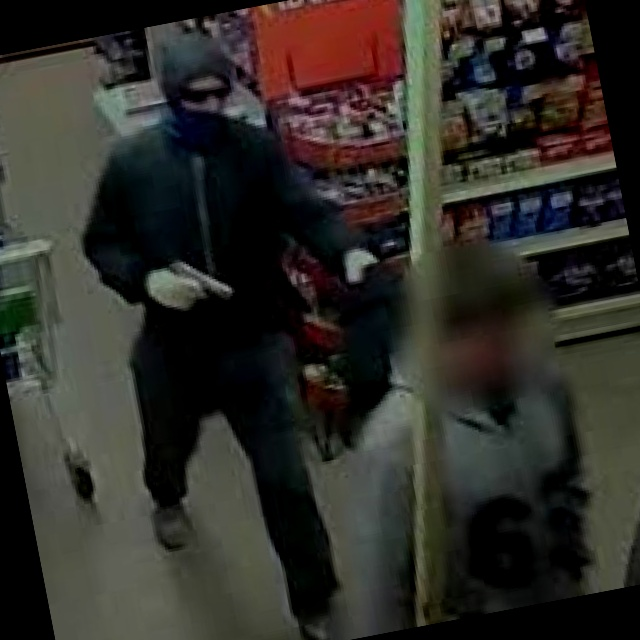gun: (140, 233, 242, 328)
